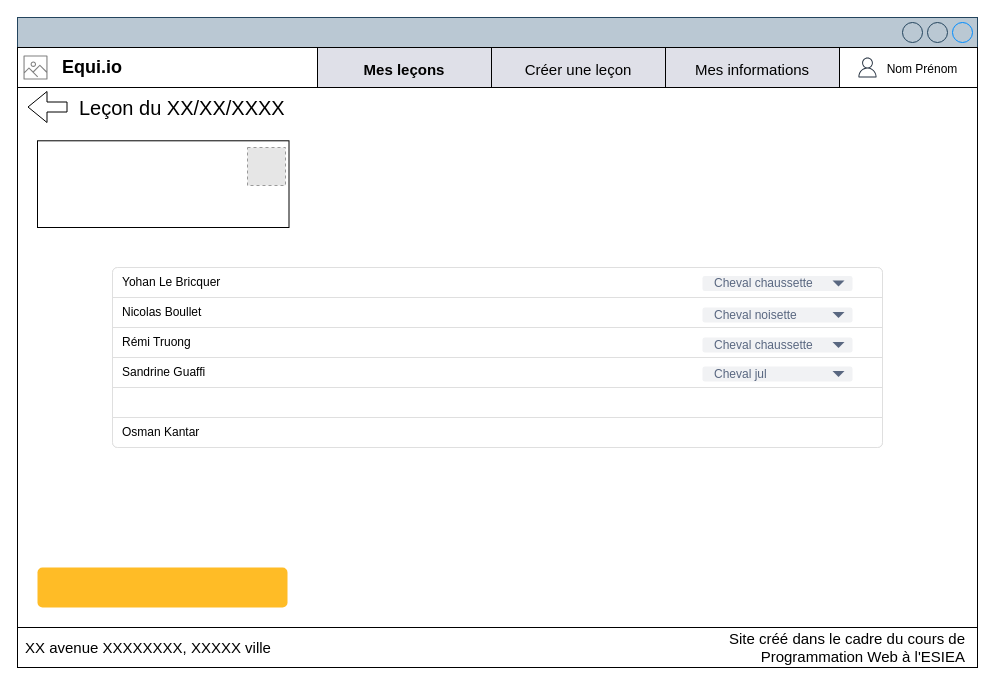
The diagram is 995 pixels wide and 685 high, and some of its shapes have lost their labels. Grey dashed boxes stand in for pictures. The shapes that lost their labels are listed below. From the top down, each one's box as (x1, y1, x2, y2) in pixels, then its label:
(36, 140, 289, 228): Moniteur : XXXX Cheval : XXXXX Niveau : XXXXX
(37, 567, 287, 607): Cheval déjà attribué ! OK
